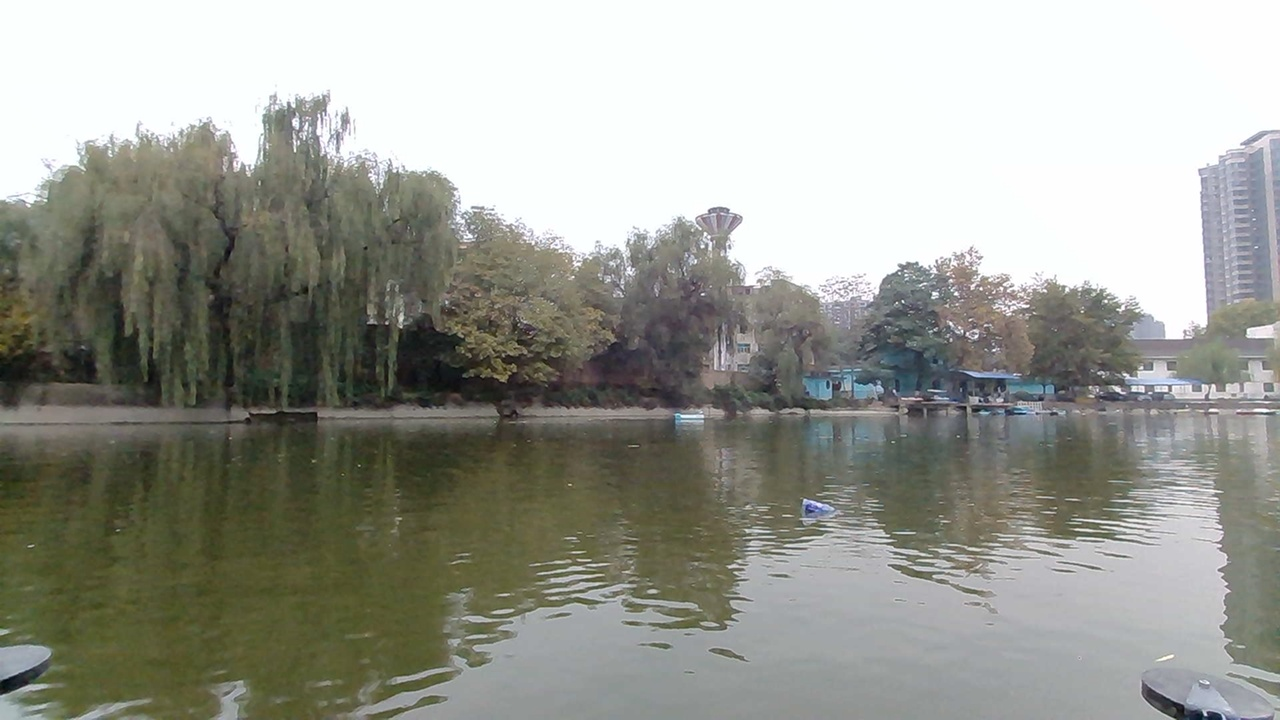bottle: (798, 495, 843, 529)
